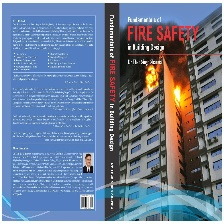fire: (143, 66, 159, 91), (173, 85, 182, 107)
